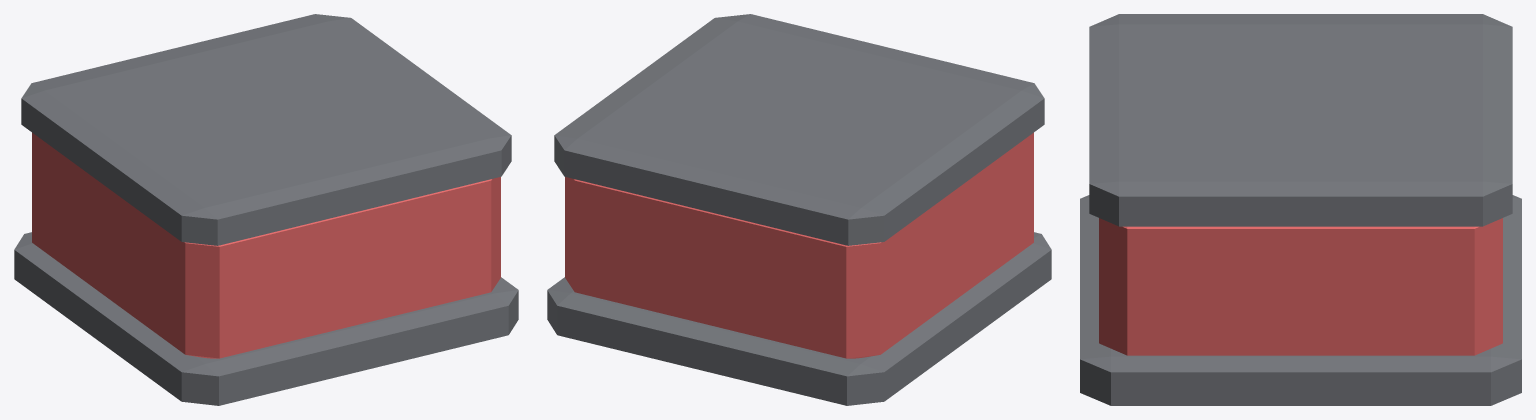
The model's file is b11_square_propane_fire_table.glb.
The picture shows the model from 3 angles, left to right: view 1: azimuth 30°, elevation 25°; view 2: azimuth 150°, elevation 25°; view 3: azimuth 270°, elevation 25°; orthographic projection. The views are drawn at different scales.
Visible parts, largest first — view 1: b11_square_propane_fire_table; view 2: b11_square_propane_fire_table; view 3: b11_square_propane_fire_table.
Boxes of the visible parts, x1,y1,x2,y2 form: b11_square_propane_fire_table: (14, 14, 518, 405); b11_square_propane_fire_table: (547, 14, 1051, 405); b11_square_propane_fire_table: (1080, 14, 1521, 405).
Bounding box in the file's own units: 1.15 × 0.61 × 1.15.
